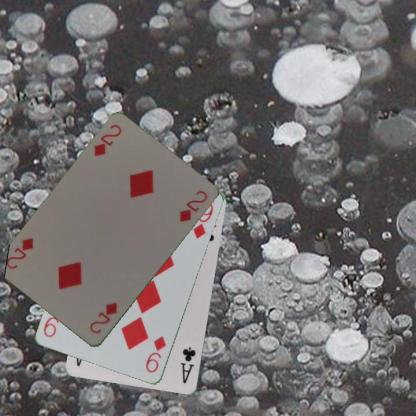2d: (86, 300, 120, 336), (90, 122, 123, 158)
9d: (143, 334, 168, 374)
Ac: (179, 344, 197, 386)
